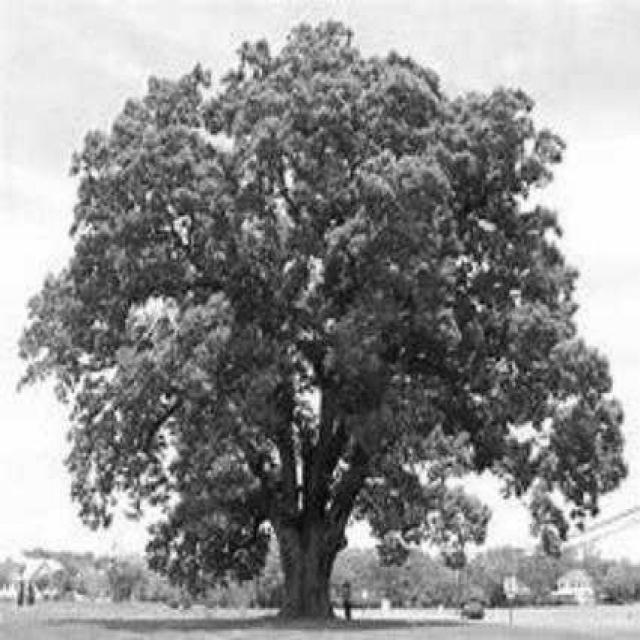Tree: (20, 22, 625, 614)
